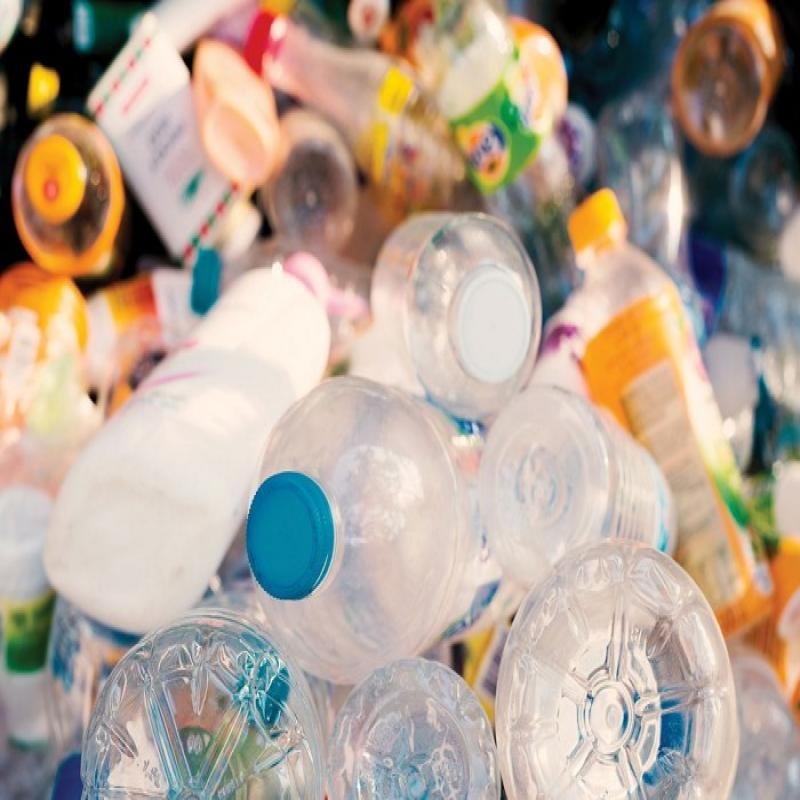botella: (569, 184, 768, 632), (243, 370, 500, 660), (495, 544, 743, 800), (86, 578, 336, 800), (418, 0, 586, 308), (477, 380, 682, 595), (378, 209, 538, 419), (332, 644, 497, 800), (8, 94, 134, 282)
